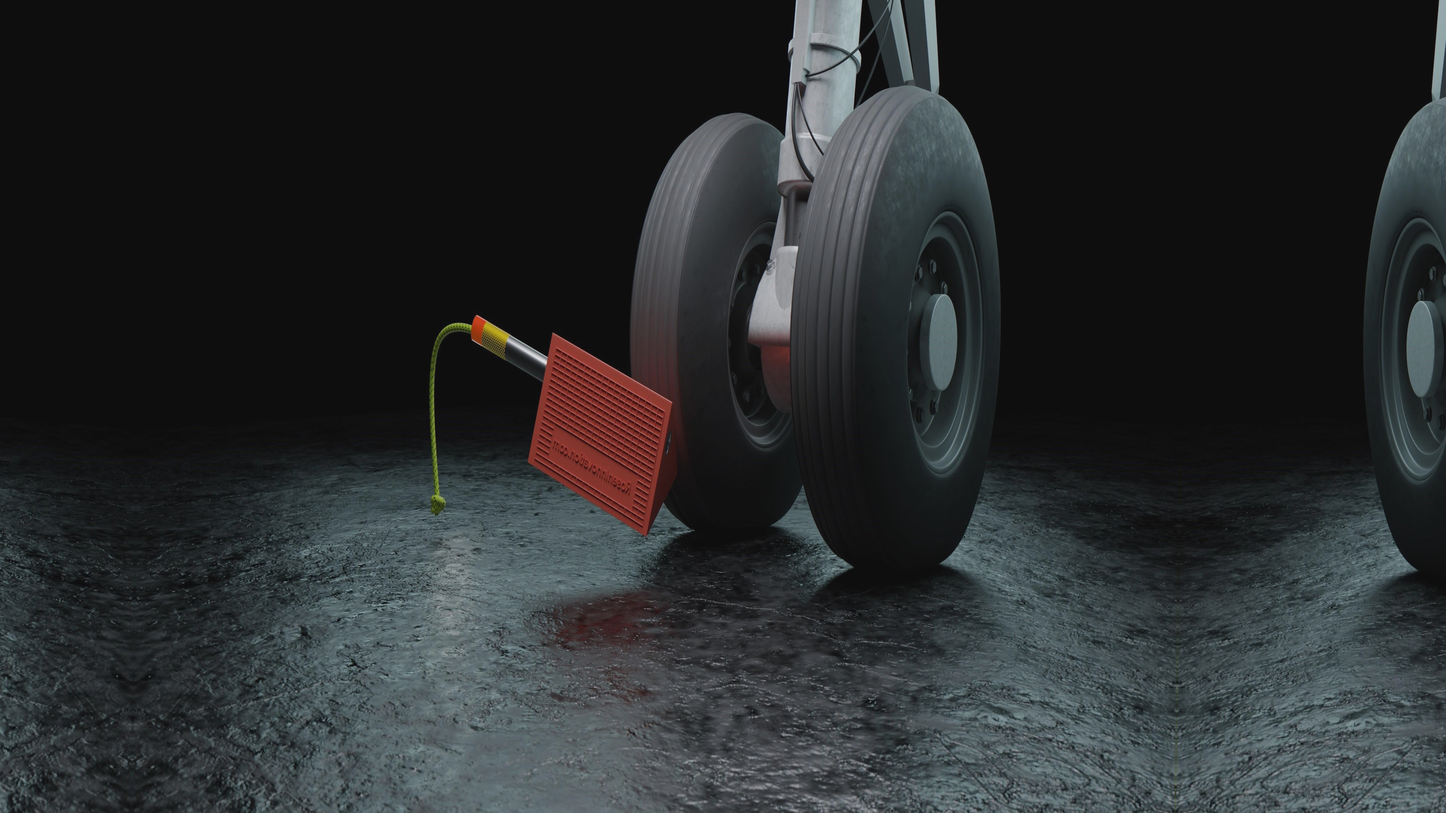chock: (525, 327, 684, 541)
wheel: (787, 80, 1008, 580), (627, 104, 816, 540), (1356, 88, 1446, 589)
